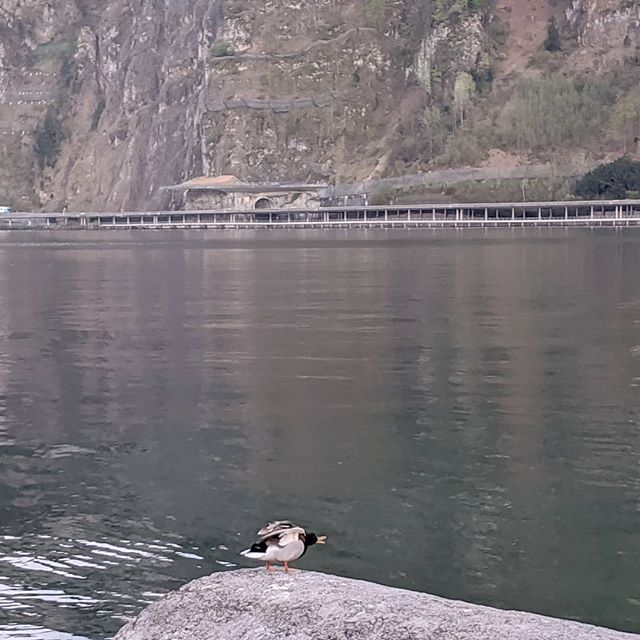animal: (226, 510, 326, 573)
sea: (6, 228, 640, 630)
